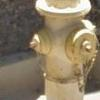Hydrant: (24, 1, 100, 100)
